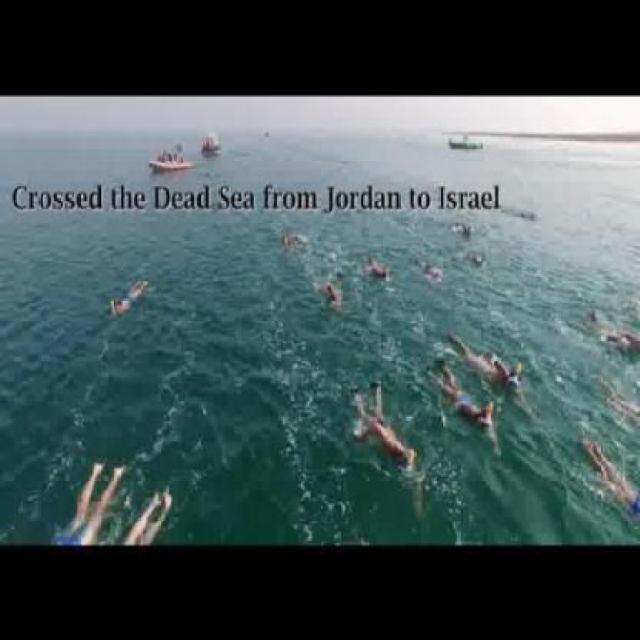swimming: (323, 377, 423, 502), (455, 340, 544, 409), (427, 364, 485, 455), (101, 273, 154, 328), (314, 275, 342, 310), (412, 264, 447, 281), (464, 251, 488, 274), (368, 257, 388, 284)
